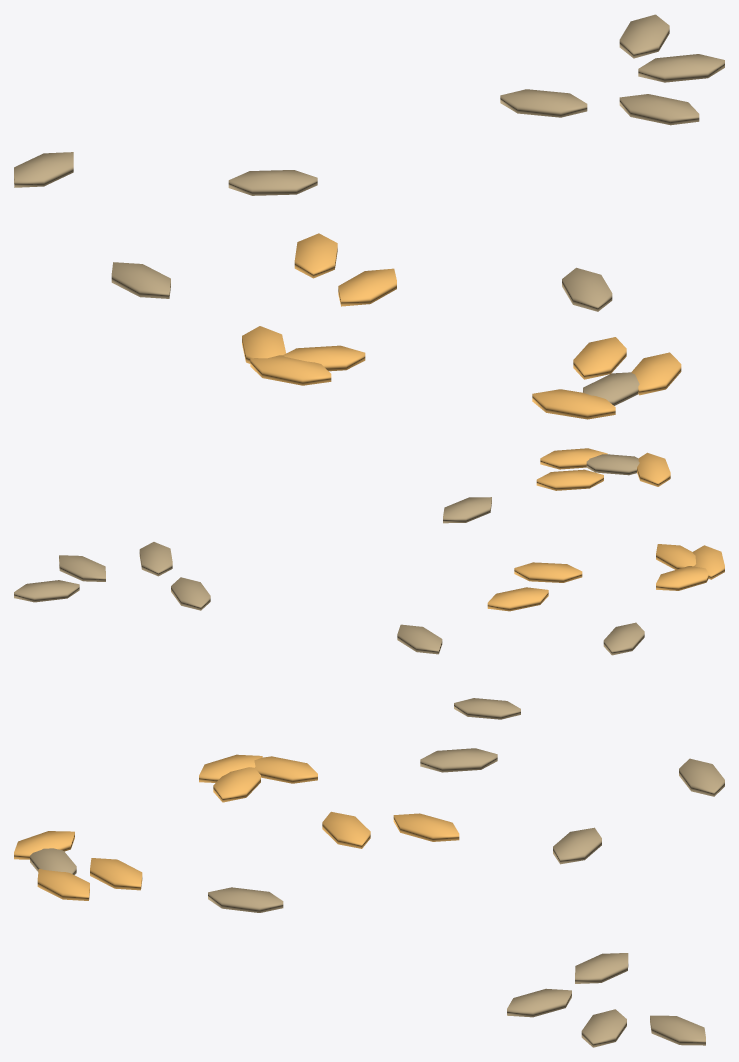
Rendered from layer_autumn_cluster_low.glb.
3 renders of one model, top to bottom at view 1: azimuth 30°, elevation 25°; view 2: azimuth 150°, elevation 25°; view 3: azimuth 270°, elevation 25°, orthographic. The views are drawn at different scales.
Size of the model in its own units: 1.6 by 0.035 by 1.65.
